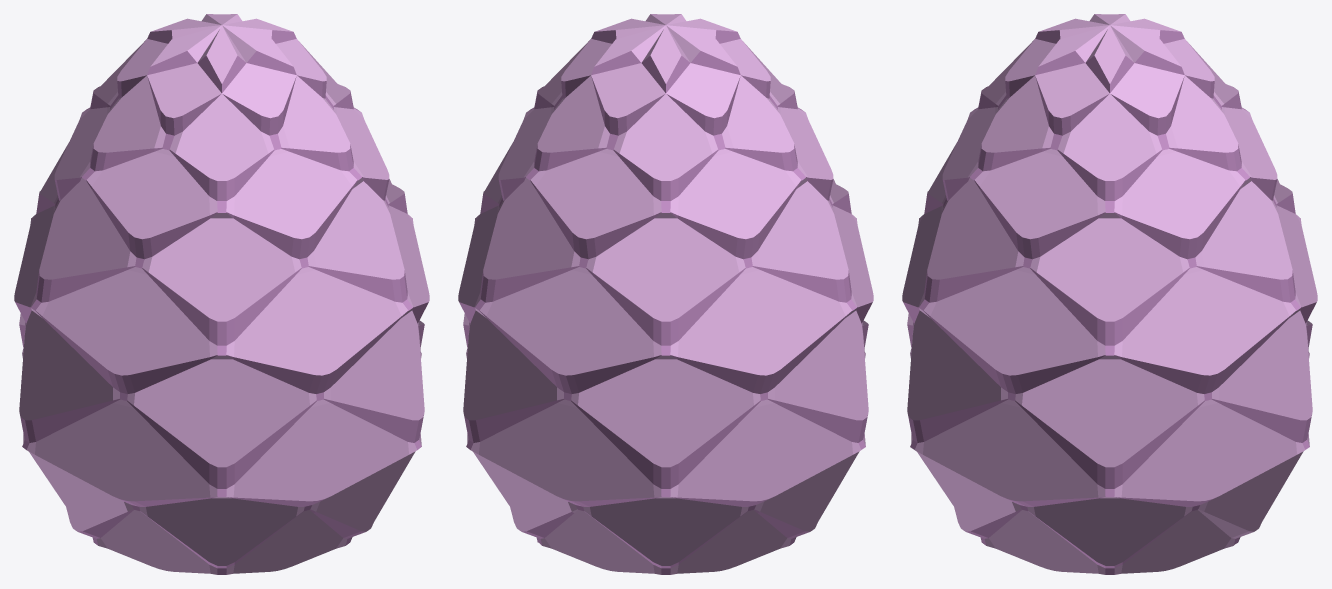
The model's file is drgn egg new.fbx.
3 renders of one model, left to right at view 1: azimuth 30°, elevation 25°; view 2: azimuth 150°, elevation 25°; view 3: azimuth 270°, elevation 25°, orthographic.
Parts seen in each view (by area): view 1: pSphere10; view 2: pSphere10; view 3: pSphere10.
Boxes of the visible parts, bbox=[...] form: pSphere10: bbox=[14, 14, 429, 574]; pSphere10: bbox=[458, 14, 873, 574]; pSphere10: bbox=[902, 14, 1317, 574].
Size of the model in its own units: 5.85 by 7.35 by 5.29.
